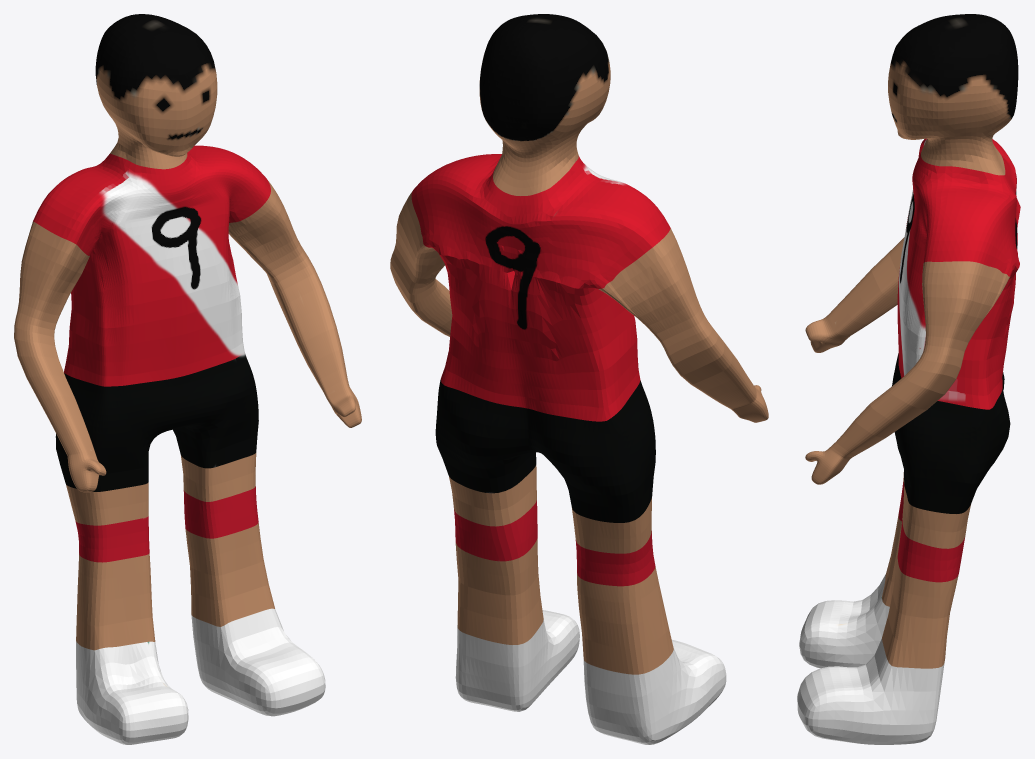
Rendered from JugadorPR.obj.
3 views of the same model, side by side, from view 1: azimuth 30°, elevation 25°; view 2: azimuth 150°, elevation 25°; view 3: azimuth 270°, elevation 25° (orthographic). The views are drawn at different scales.
Visible parts, largest first — view 1: JugadorPR; view 2: JugadorPR; view 3: JugadorPR.
Boxes of the visible parts, x1,y1,x2,y2 form: JugadorPR: (14, 14, 361, 744); JugadorPR: (390, 14, 768, 744); JugadorPR: (797, 14, 1020, 744).
Size of the model in its own units: 0.8346 by 1.75 by 0.5202.
1 material, 1 textured.
